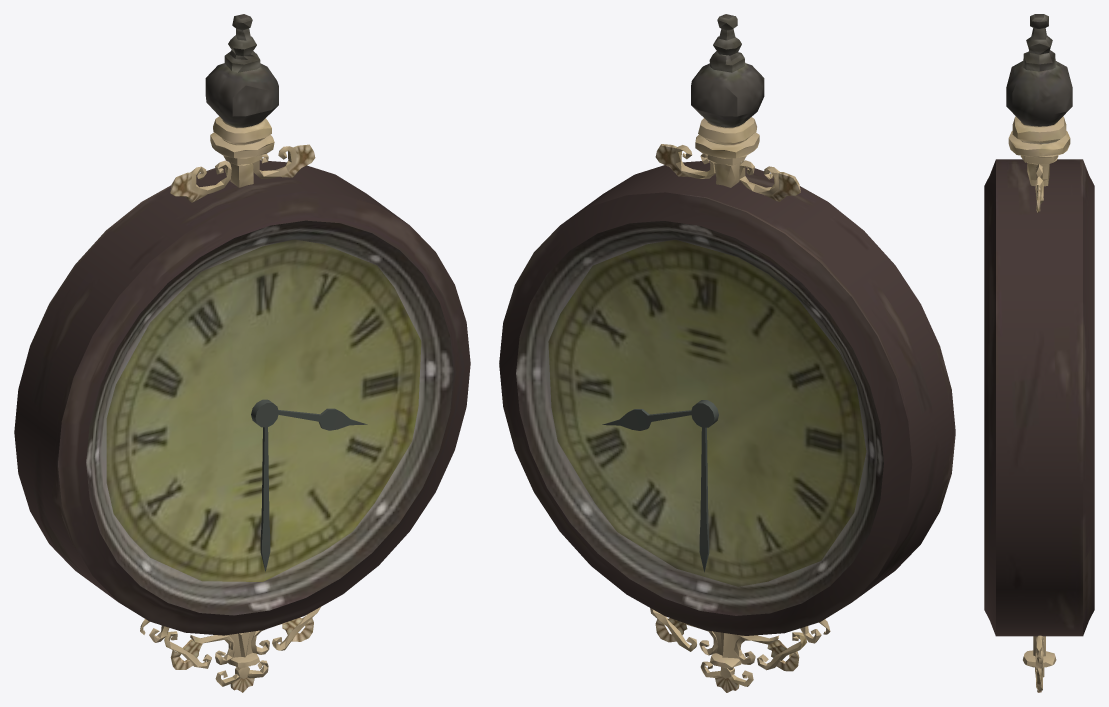
Rendered from clock-wall.glb.
The picture shows the model from 3 angles, left to right: view 1: azimuth 30°, elevation 25°; view 2: azimuth 150°, elevation 25°; view 3: azimuth 270°, elevation 25°; orthographic projection.
Parts seen in each view (by area): view 1: clock-wall; view 2: clock-wall; view 3: clock-wall.
Boxes of the visible parts, box(x1,y1,x2,y2) form: clock-wall: box(14, 14, 470, 692); clock-wall: box(499, 14, 955, 692); clock-wall: box(984, 14, 1094, 692).
Size of the model in its own units: 0.4626 by 0.7239 by 0.1066.
Materials: 1 (1 with a texture image).
